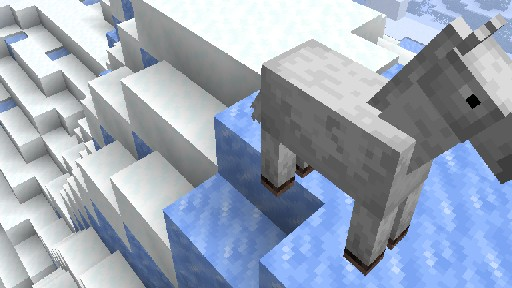horse: (249, 12, 512, 275)
